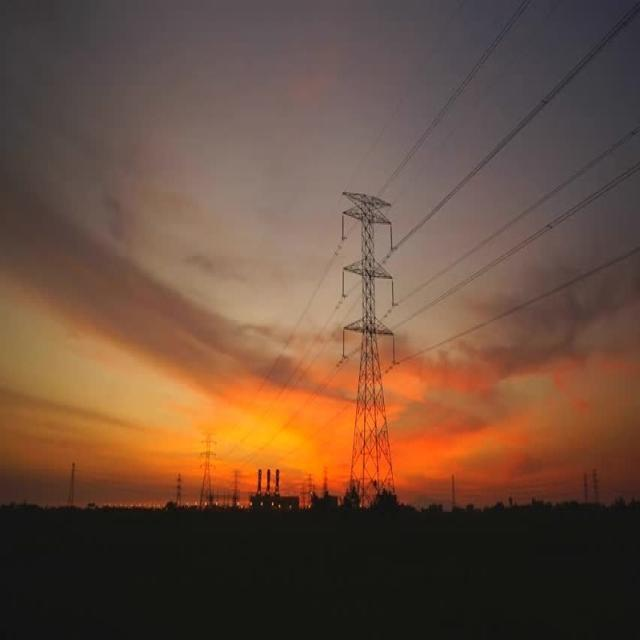non-critical vegetation: (334, 179, 404, 518)
